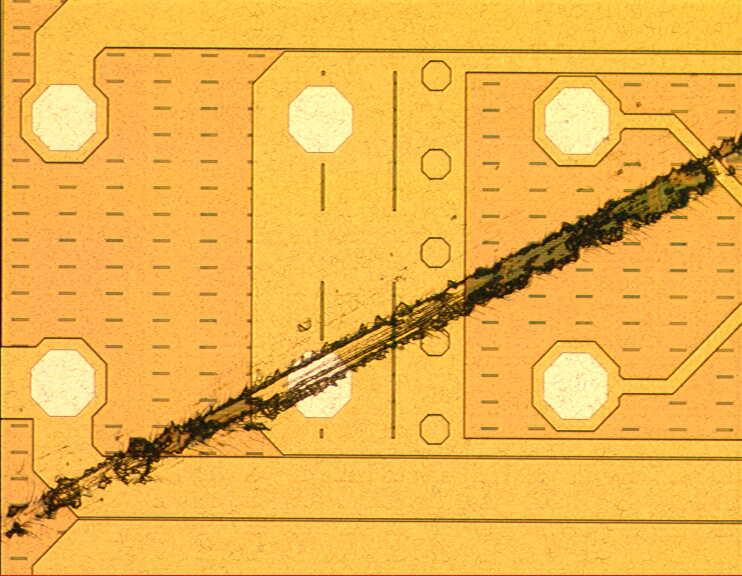SCRATCH: (1, 127, 742, 554)
